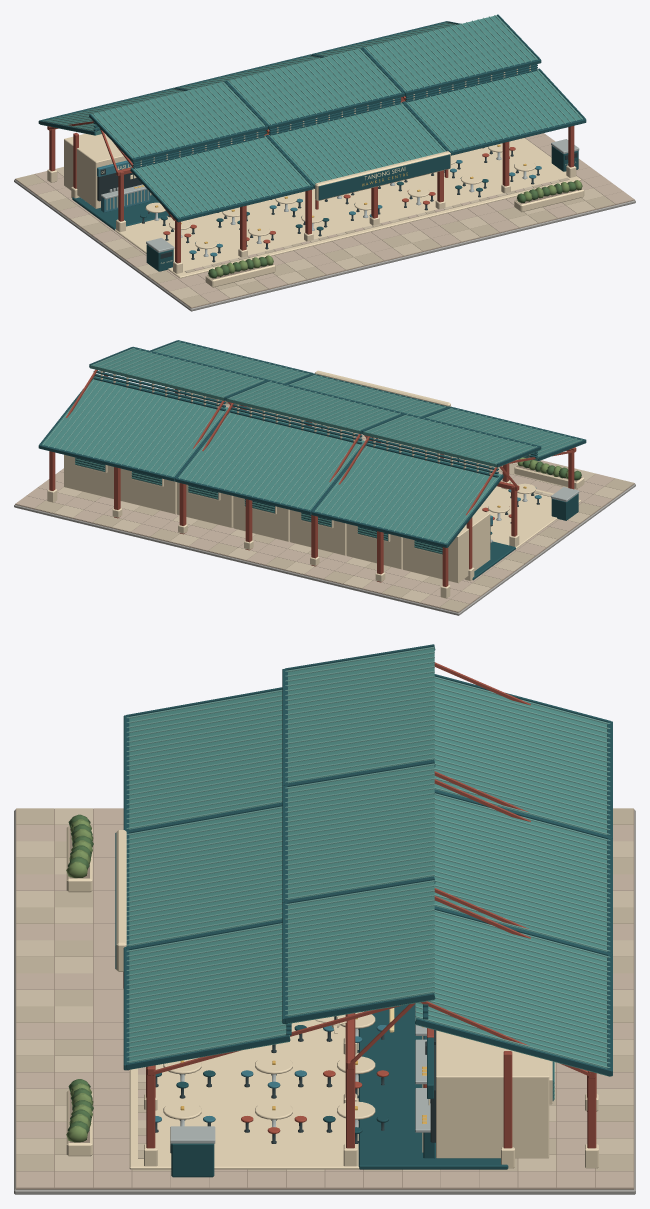
The picture shows the model from 3 angles, top to bottom: view 1: azimuth 30°, elevation 25°; view 2: azimuth 150°, elevation 25°; view 3: azimuth 270°, elevation 25°; orthographic projection. The views are drawn at different scales.
Parts seen in each view (by area): view 1: Monitor Roof, Paved Site, Food Stall Row, Dining Furniture, Canopy Structure, Street Sign and Return, Monitor Ventilation, Street Planters; view 2: Monitor Roof, Paved Site, Food Stall Row, Canopy Structure, Monitor Ventilation, Street Sign and Return, Street Planters, Dining Furniture; view 3: Monitor Roof, Paved Site, Food Stall Row, Canopy Structure, Dining Furniture, Street Planters, Street Sign and Return.
Part boxes in pixels (x1,y1,x2,y2): Monitor Roof: (38,14,586,222); Paved Site: (14,133,635,311); Food Stall Row: (64,97,404,212); Dining Furniture: (140,143,541,262); Canopy Structure: (47,96,576,273); Street Sign and Return: (146,139,579,271); Monitor Ventilation: (93,64,537,168); Street Planters: (205,180,584,287); Monitor Roof: (38,340,586,547); Paved Site: (14,388,635,615); Food Stall Row: (64,454,492,582); Canopy Structure: (47,369,576,598); Monitor Ventilation: (93,370,537,477); Street Sign and Return: (158,370,579,520); Street Planters: (206,396,584,489); Dining Furniture: (482,483,541,534); Monitor Roof: (123,644,612,1076); Paved Site: (14,808,635,1194); Food Stall Row: (415,1004,554,1158); Canopy Structure: (144,662,598,1168); Dining Furniture: (155,1011,388,1143); Street Planters: (66,814,93,1156); Street Sign and Return: (115,830,215,1177).
Size of the model in its own units: 29 by 6.59 by 20.
